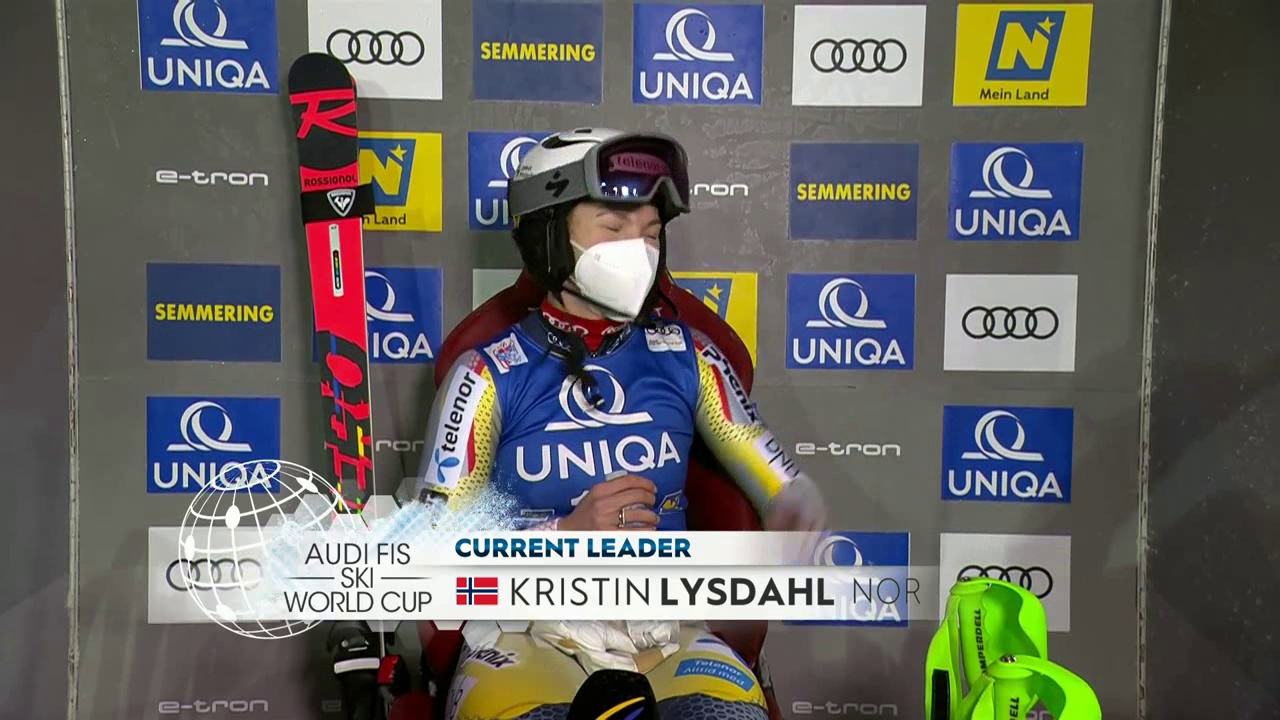audi: (321, 23, 430, 76), (801, 33, 916, 83), (955, 300, 1067, 349), (950, 561, 1066, 601)
etron: (152, 161, 268, 193), (147, 692, 281, 719), (780, 435, 907, 463)
uniqa: (533, 386, 665, 493), (951, 139, 1080, 247), (635, 5, 760, 112), (794, 263, 910, 376), (150, 396, 270, 499), (153, 1, 270, 98), (955, 404, 1059, 507), (361, 268, 436, 360)
